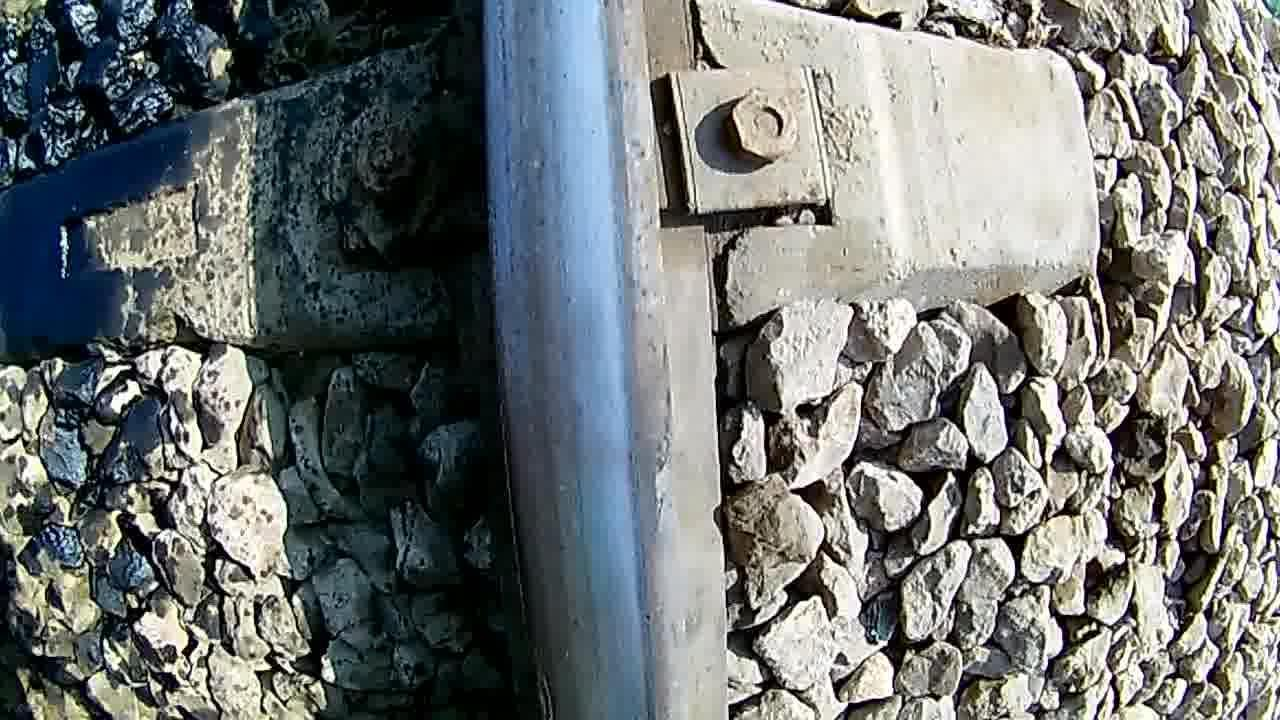crack: (481, 0, 663, 718)
